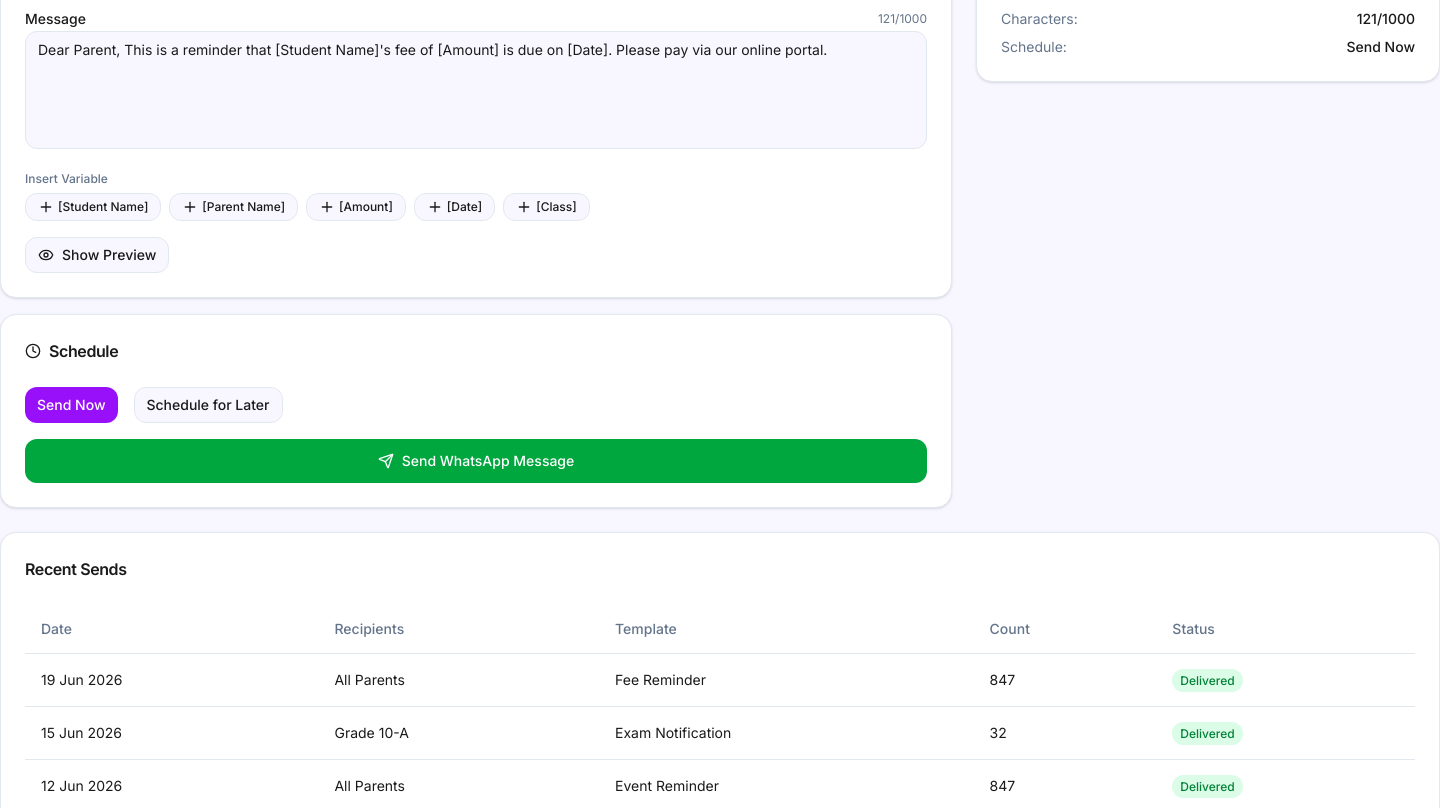
Test case: WhatsAppBlast › shows the schedule date field only after choosing 'Schedule for Later'
The image size is (1440, 808).
(page scrolled)
Expected: the text "Schedule Date & Time" is not shown
What coordinates should you click on to do the following:
click the button "Schedule for Later"
I would click on:
 (208, 405)
Its box is [134, 387, 282, 423].
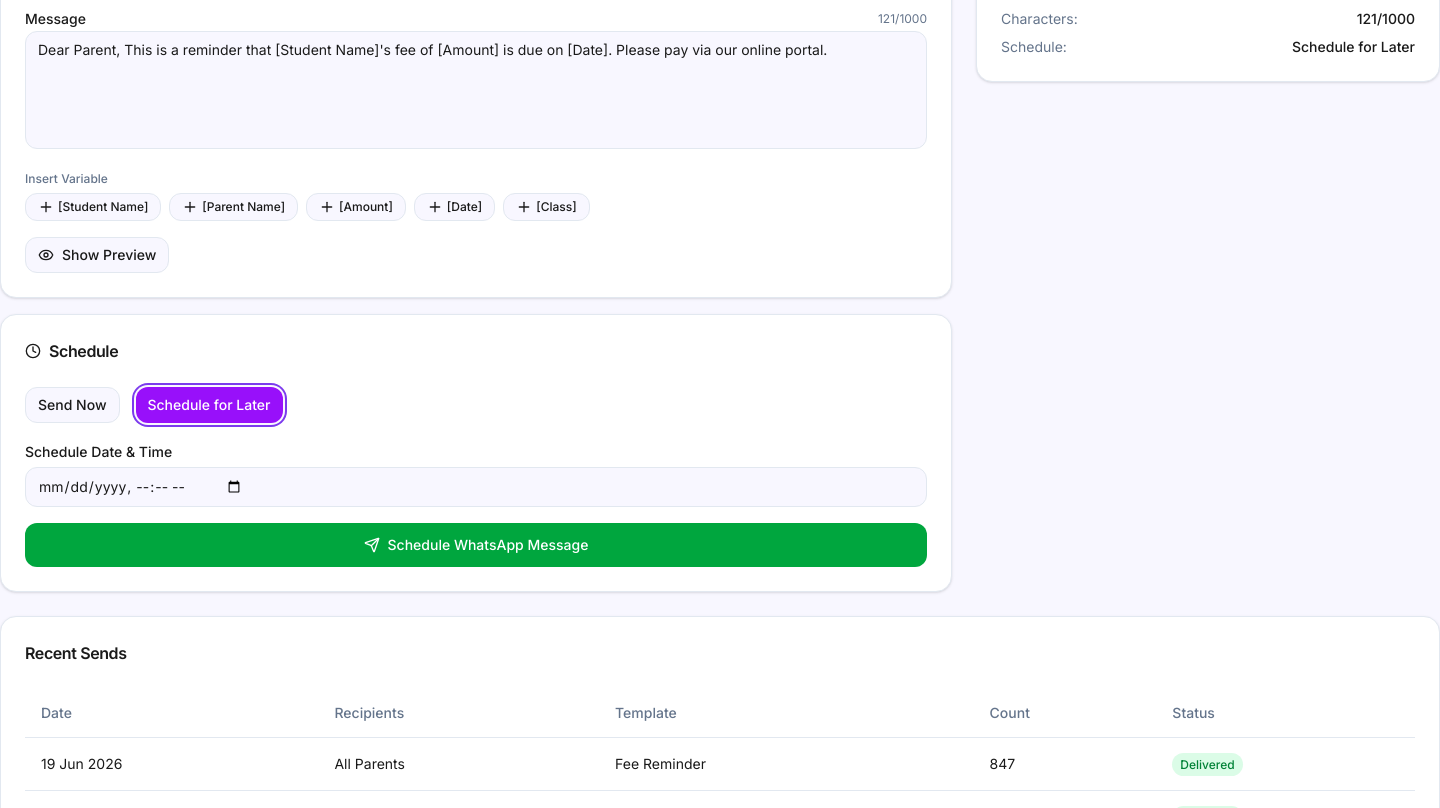
Expected: the text "Schedule Date & Time" is shown, [25, 443, 172, 460]
Expected: the button "Schedule WhatsApp Message" is shown, [25, 523, 927, 567]
